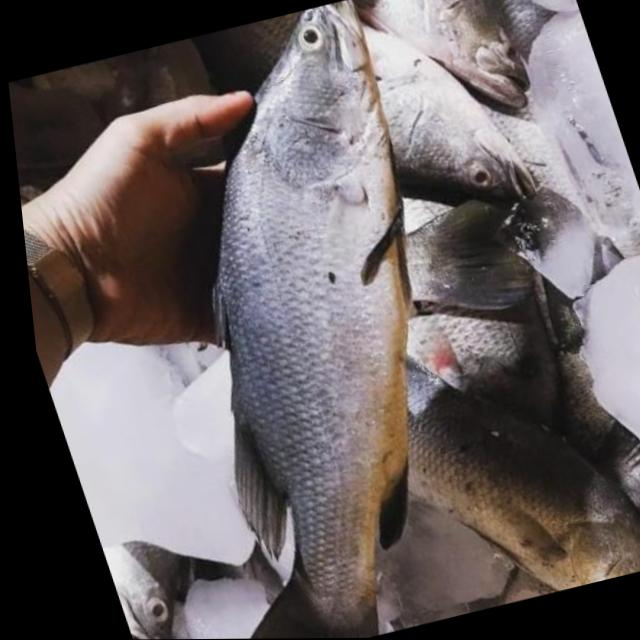Seabass: (23, 0, 551, 640), (171, 0, 542, 260)
